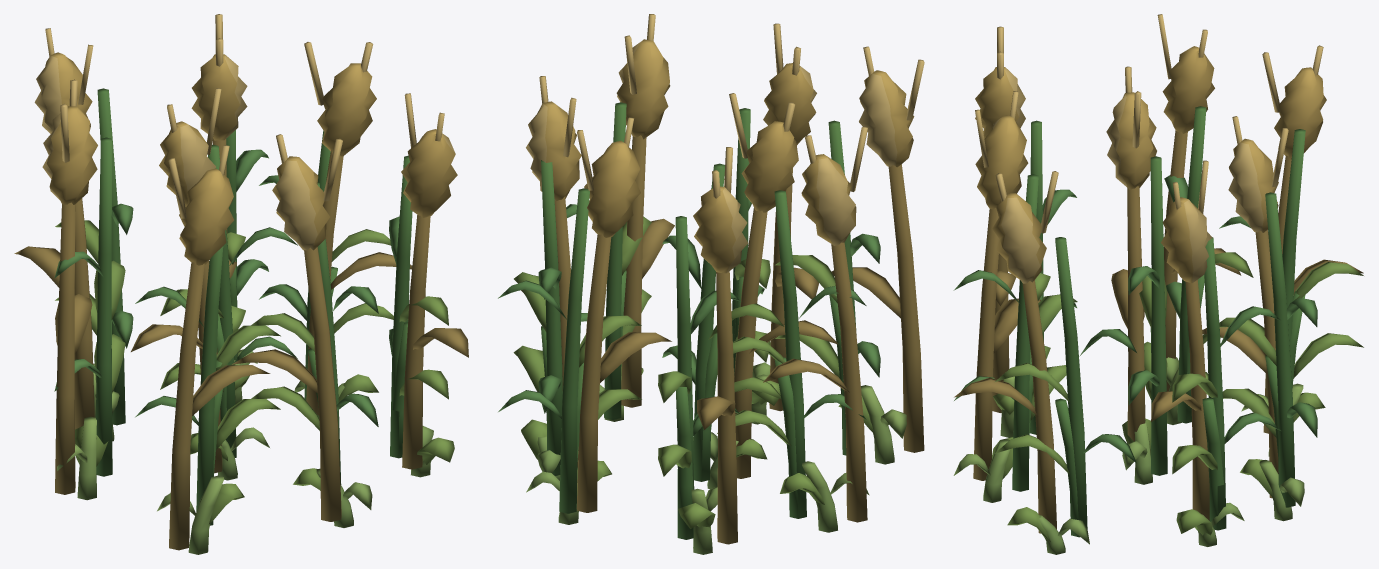
Rendered from wheat.glb.
The picture shows the model from 3 angles, left to right: view 1: azimuth 30°, elevation 25°; view 2: azimuth 150°, elevation 25°; view 3: azimuth 270°, elevation 25°; orthographic projection. The views are drawn at different scales.
Visible parts, largest first — view 1: decor_wheat_stalk.024, decor_wheat_stalk.027, decor_wheat_stalk.025, decor_wheat_stalk.019, decor_wheat_stalk.026, Heavy_golden_ear, Heavy_golden_ear.001, Heavy_golden_ear.003, Heavy_golden_ear.005, Heavy_golden_ear.002, decor_wheat_stalk.016, Heavy_golden_ear.007 (+37 smaller); view 2: decor_wheat_stalk.024, decor_wheat_stalk.031, decor_wheat_stalk.027, decor_wheat_stalk.023, decor_wheat_stalk.030, Heavy_golden_ear.007, Heavy_golden_ear, decor_wheat_stalk.019, decor_wheat_stalk.021, decor_wheat_stalk.028, Heavy_golden_ear.003, Heavy_golden_ear.002 (+45 smaller); view 3: decor_wheat_stalk.023, decor_wheat_stalk.020, decor_wheat_stalk.025, decor_wheat_stalk.018, decor_wheat_stalk.026, Heavy_golden_ear.002, Heavy_golden_ear.004, decor_wheat_stalk.028, decor_wheat_stalk.029, Heavy_golden_ear.001, Heavy_golden_ear.007, Heavy_golden_ear.005 (+44 smaller).
Boxes of the visible parts, left/top/right/bottom form: decor_wheat_stalk.024: left=169, top=262, right=204, bottom=550; decor_wheat_stalk.027: left=55, top=202, right=75, bottom=494; decor_wheat_stalk.025: left=304, top=247, right=341, bottom=521; decor_wheat_stalk.019: left=96, top=137, right=112, bottom=474; decor_wheat_stalk.026: left=402, top=215, right=430, bottom=469; Heavy_golden_ear: left=179, top=168, right=233, bottom=265; Heavy_golden_ear.001: left=272, top=156, right=329, bottom=250; Heavy_golden_ear.003: left=42, top=106, right=97, bottom=204; Heavy_golden_ear.005: left=317, top=63, right=376, bottom=156; Heavy_golden_ear.002: left=401, top=129, right=457, bottom=217; decor_wheat_stalk.016: left=196, top=246, right=223, bottom=523; Heavy_golden_ear.007: left=191, top=54, right=247, bottom=140; decor_wheat_stalk.024: left=888, top=164, right=924, bottom=452; decor_wheat_stalk.031: left=576, top=234, right=611, bottom=512; decor_wheat_stalk.027: left=831, top=242, right=867, bottom=522; decor_wheat_stalk.023: left=559, top=188, right=589, bottom=512; decor_wheat_stalk.030: left=716, top=271, right=737, bottom=544; Heavy_golden_ear.007: left=584, top=140, right=640, bottom=237; Heavy_golden_ear: left=859, top=70, right=914, bottom=167; decor_wheat_stalk.019: left=774, top=190, right=806, bottom=517; decor_wheat_stalk.021: left=541, top=160, right=562, bottom=474; decor_wheat_stalk.028: left=734, top=208, right=767, bottom=478; Heavy_golden_ear.003: left=801, top=154, right=856, bottom=245; Heavy_golden_ear.002: left=616, top=39, right=670, bottom=139; decor_wheat_stalk.023: left=1265, top=192, right=1295, bottom=505; decor_wheat_stalk.020: left=1150, top=156, right=1167, bottom=474; decor_wheat_stalk.025: left=973, top=208, right=999, bottom=480; decor_wheat_stalk.018: left=1055, top=237, right=1087, bottom=529; decor_wheat_stalk.026: left=1022, top=280, right=1056, bottom=533; Heavy_golden_ear.002: left=992, top=193, right=1046, bottom=283; Heavy_golden_ear.004: left=1106, top=92, right=1156, bottom=189; decor_wheat_stalk.028: left=1127, top=186, right=1145, bottom=441; decor_wheat_stalk.029: left=1185, top=279, right=1209, bottom=520; Heavy_golden_ear.001: left=975, top=115, right=1028, bottom=211; Heavy_golden_ear.007: left=1228, top=138, right=1278, bottom=232; Heavy_golden_ear.005: left=1161, top=197, right=1212, bottom=282.
Size of the model in its own units: 0.647 by 0.6979 by 0.6639.
